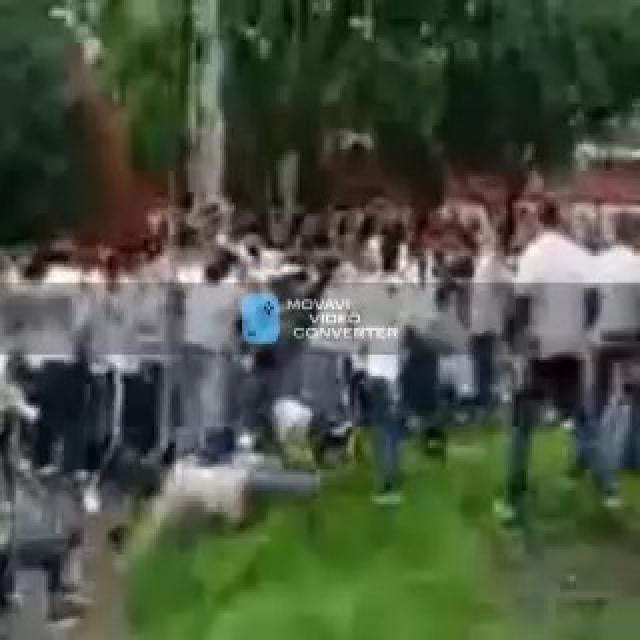non-voilence: (0, 173, 638, 632)
